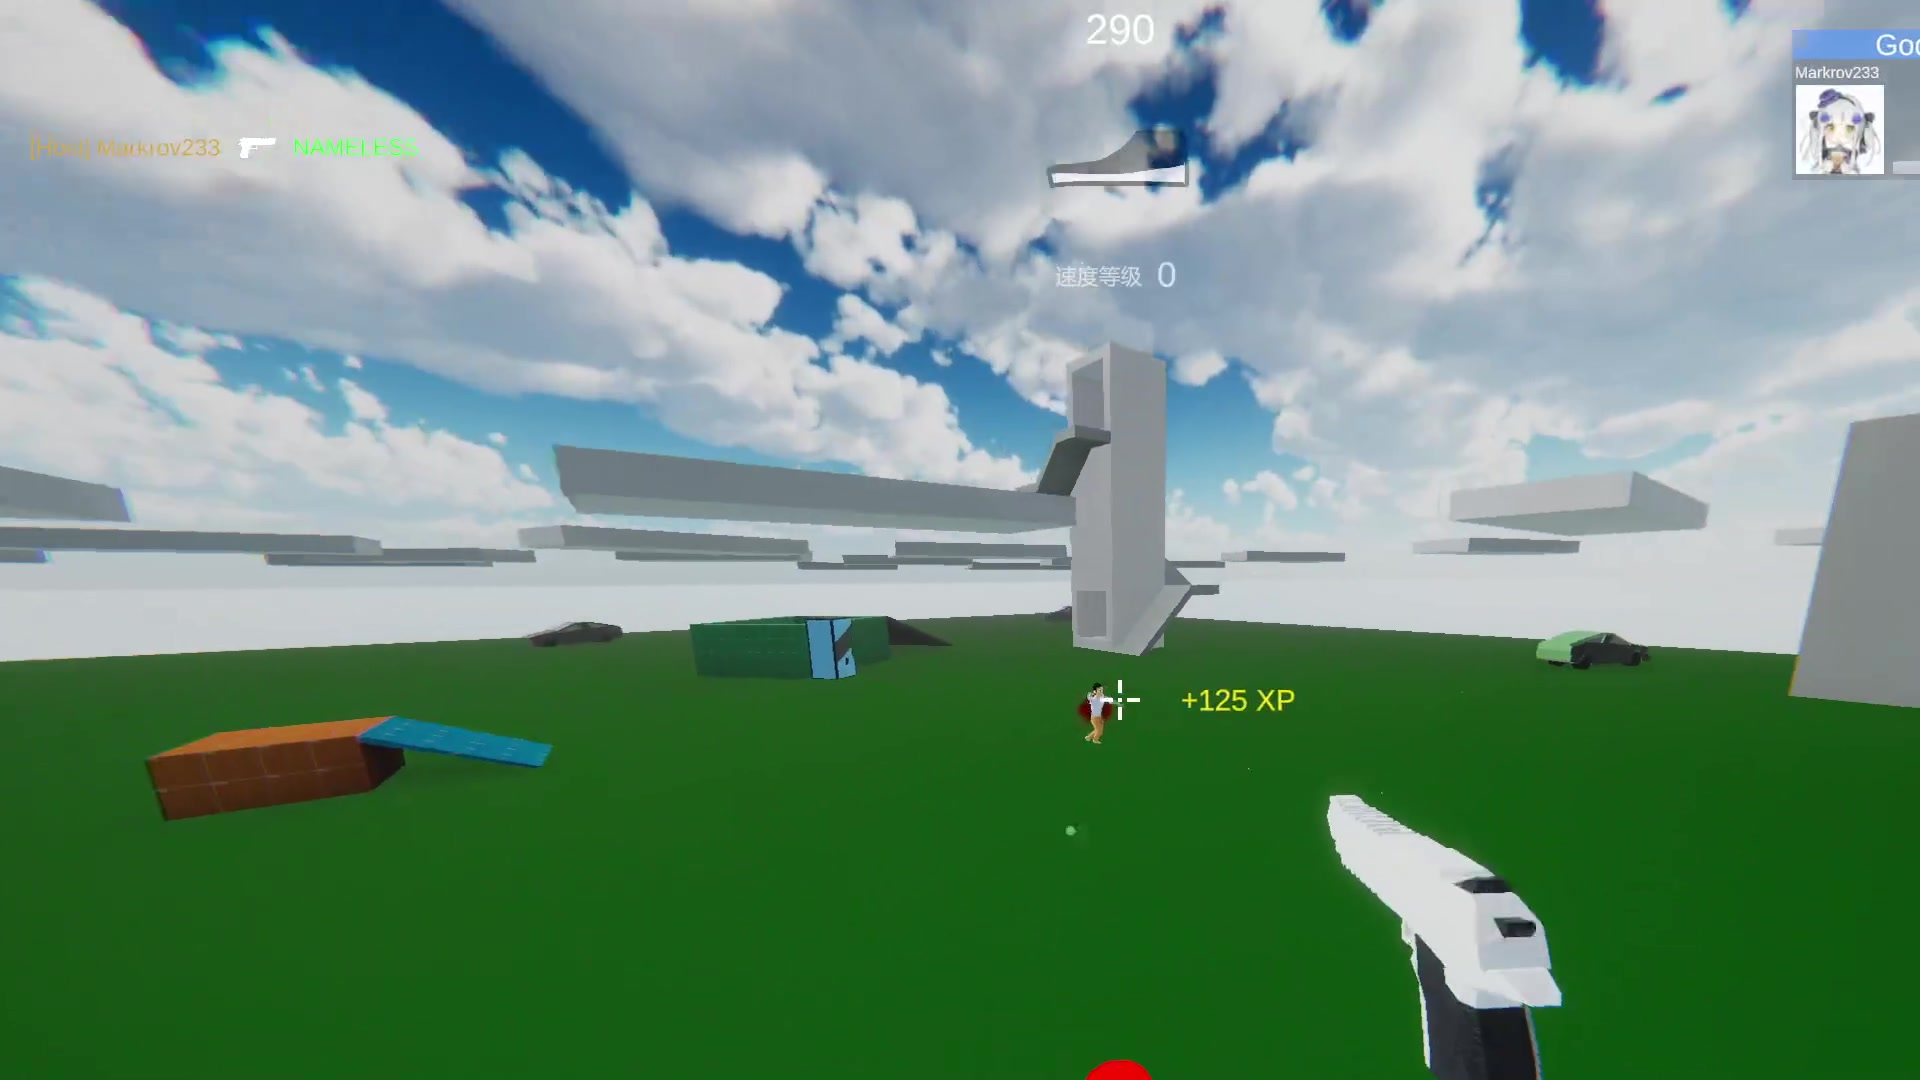human: (1091, 679, 1106, 750)
